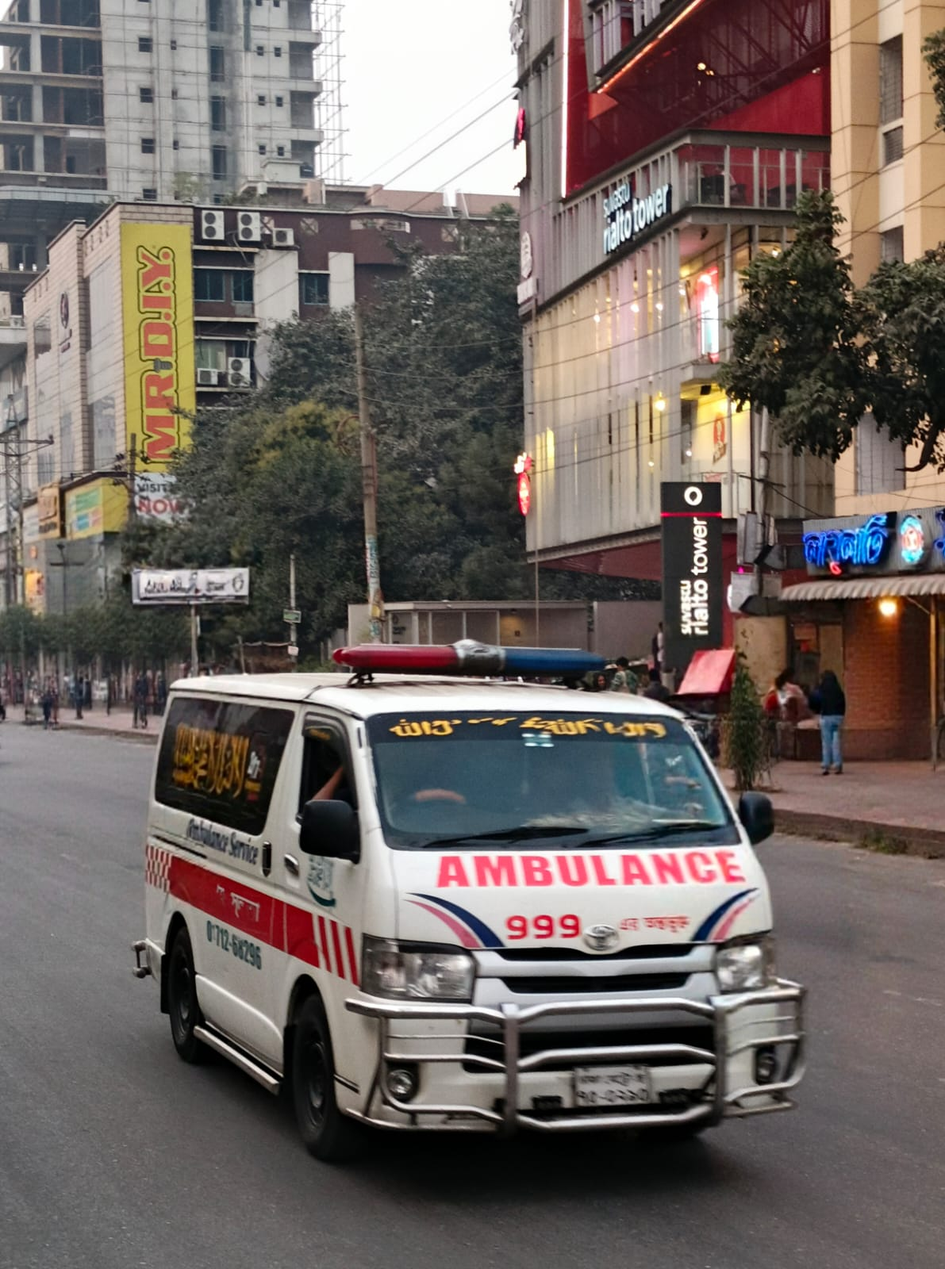Ambulance: (114, 619, 818, 1168)
